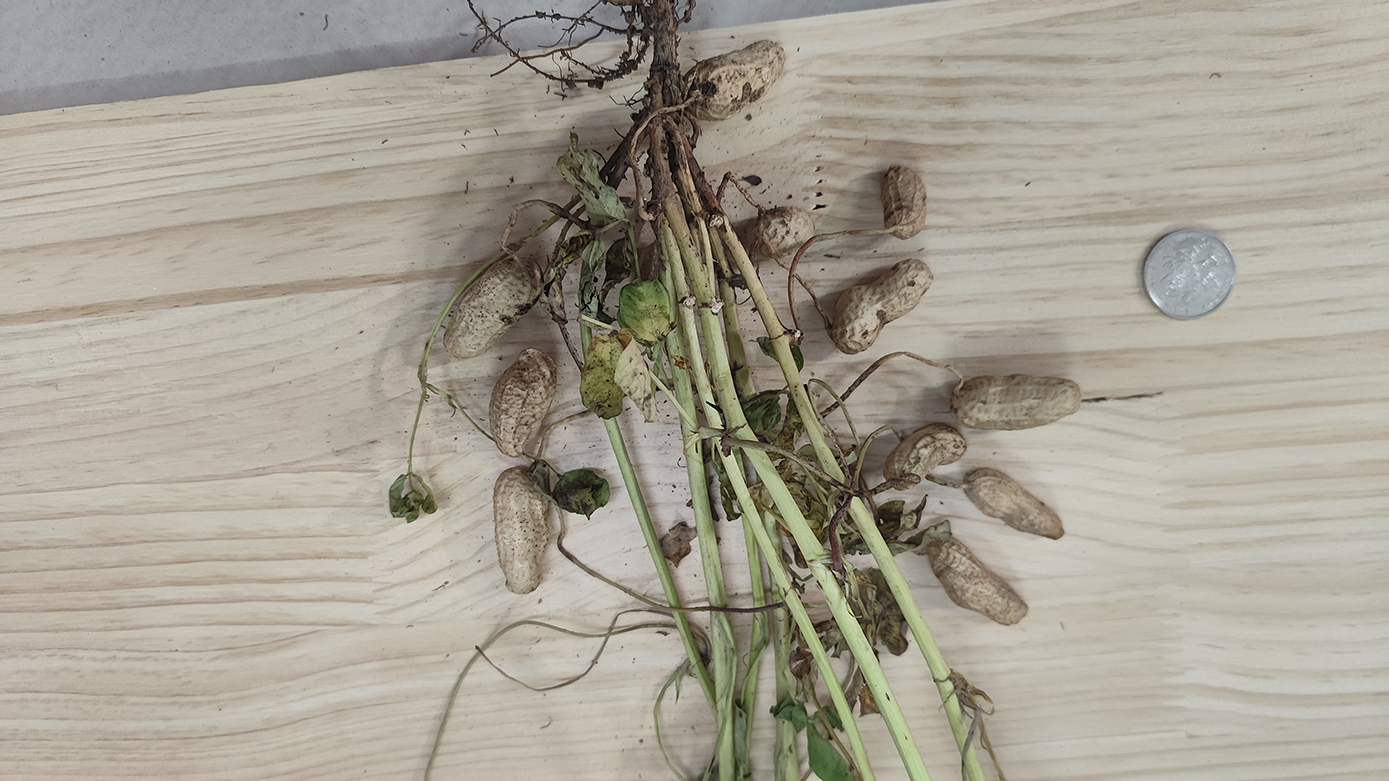h: (442, 256, 541, 359), (833, 259, 933, 355), (926, 535, 1027, 624), (685, 38, 786, 121), (966, 467, 1066, 543), (951, 374, 1081, 432), (493, 465, 550, 592), (490, 352, 555, 458), (885, 426, 966, 489), (881, 164, 927, 237), (755, 206, 812, 258)
